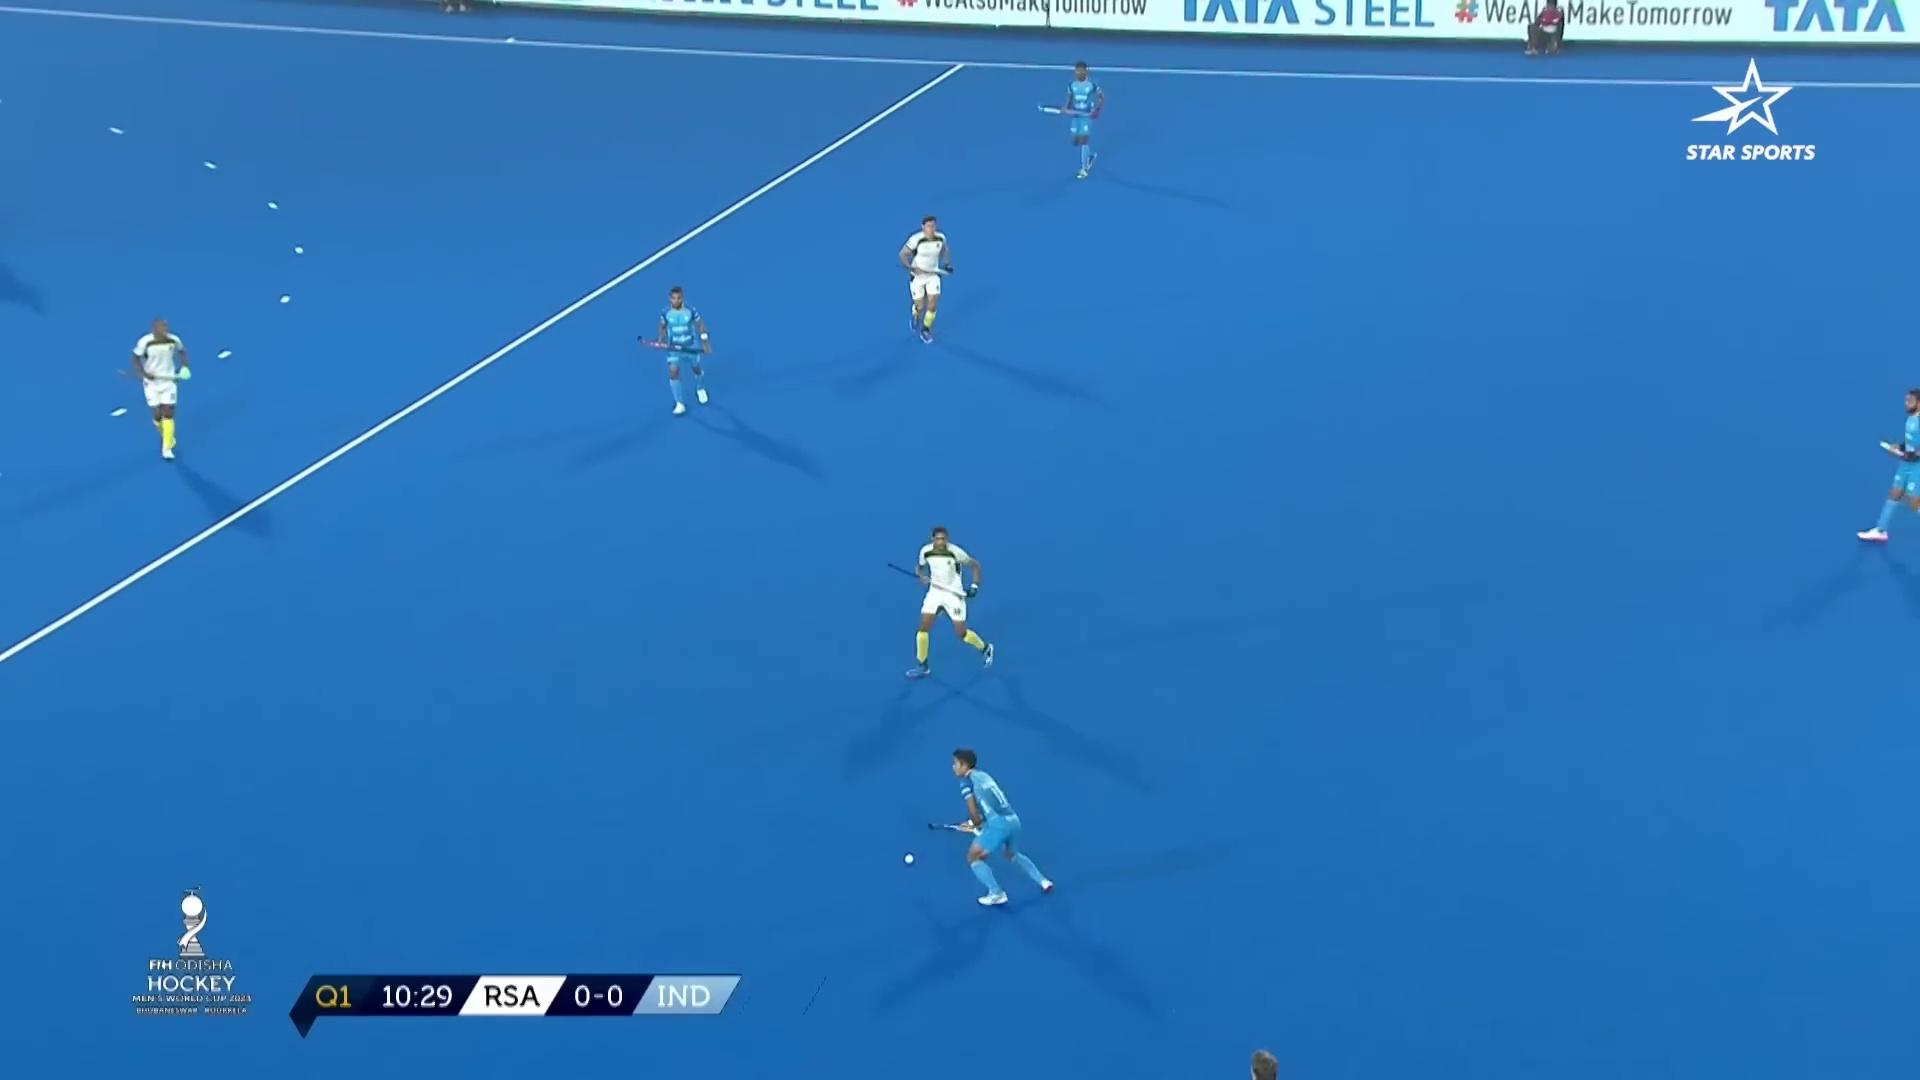ball: (890, 839, 930, 885)
